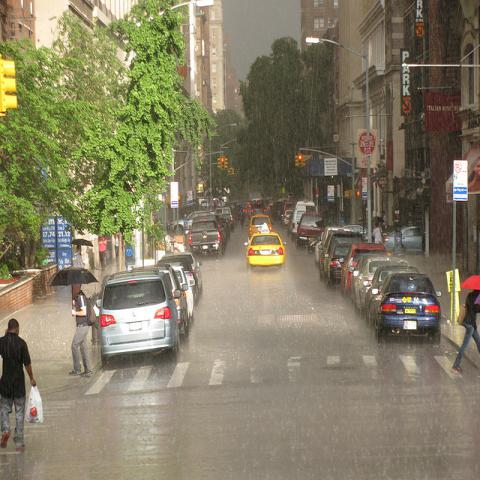car: (169, 194, 425, 326), (98, 265, 183, 373), (373, 269, 442, 344), (353, 257, 404, 318), (148, 264, 188, 338), (339, 241, 389, 299), (244, 222, 287, 274), (157, 256, 200, 302), (162, 252, 204, 296), (169, 264, 196, 322), (189, 218, 227, 256), (326, 243, 351, 286), (296, 213, 324, 248), (246, 214, 272, 240)
truck: (297, 214, 325, 246), (214, 207, 233, 231)
